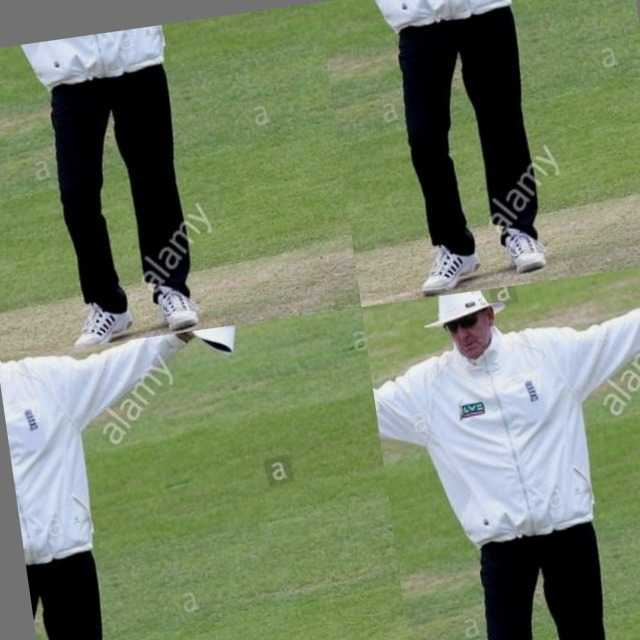No_Ball: (318, 0, 640, 307), (0, 330, 249, 640)
Wide: (362, 263, 640, 640)
